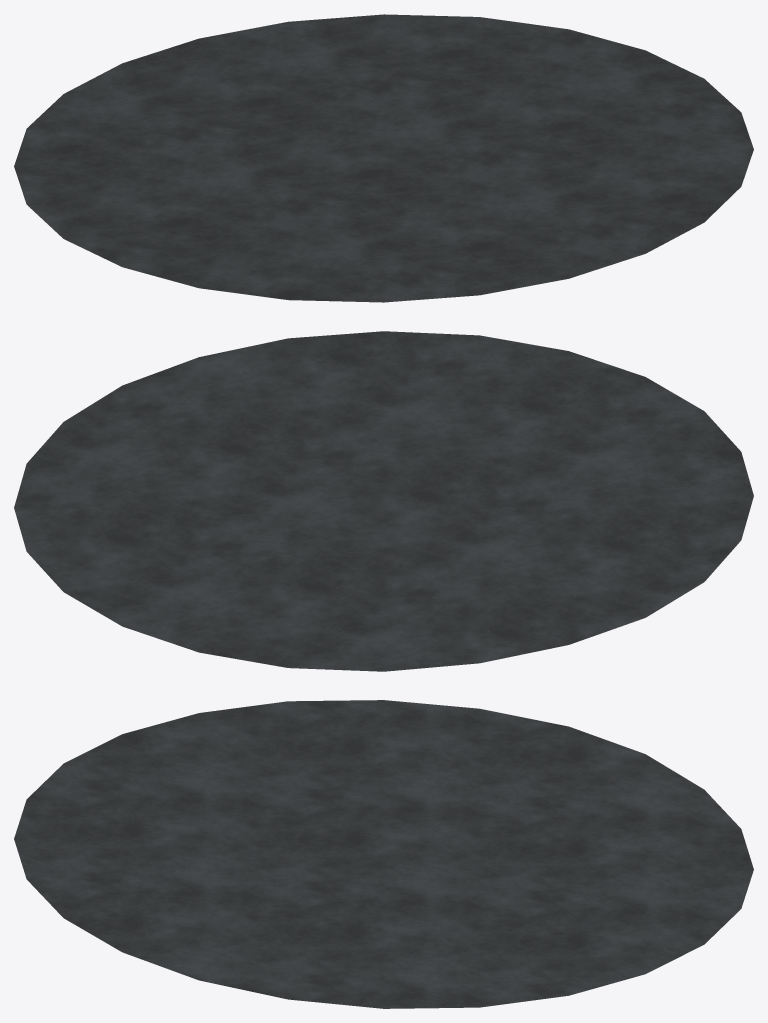
File: INT-J-018.obj
The picture shows the model from 3 angles, top to bottom: view 1: azimuth 30°, elevation 25°; view 2: azimuth 150°, elevation 25°; view 3: azimuth 270°, elevation 25°; orthographic projection.
Visible parts, largest first — view 1: INT-J-018; view 2: INT-J-018; view 3: INT-J-018.
Boxes of the visible parts, x1,y1,x2,y2 form: INT-J-018: (14, 14, 753, 302); INT-J-018: (14, 331, 753, 671); INT-J-018: (14, 700, 753, 1008).
Size of the model in its own units: 10 by 0.458 by 10.
Materials: 1 (1 with a texture image).
